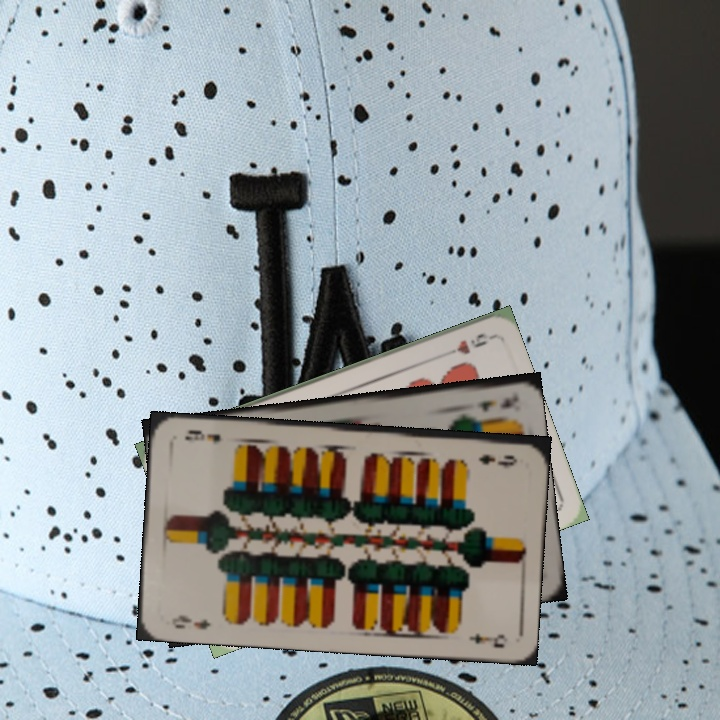E9: (167, 611, 214, 632), (475, 450, 520, 469)
EK: (473, 394, 517, 413)
H9: (437, 329, 494, 360)
